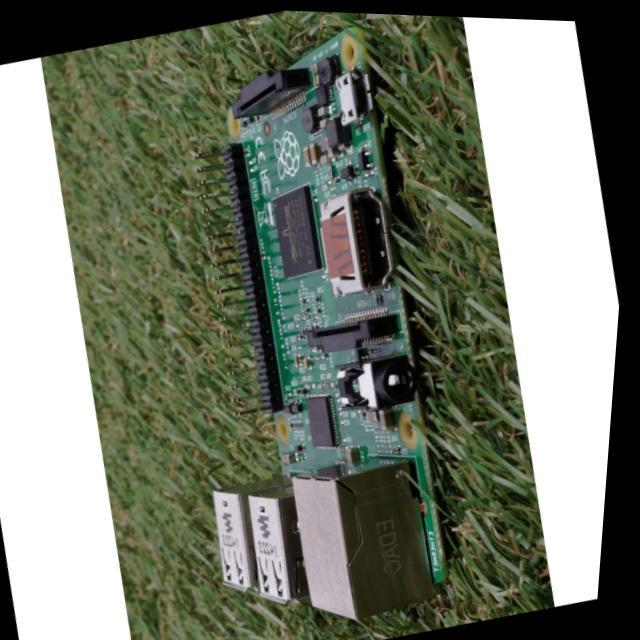Raspberry-Pi-2-B: (214, 34, 444, 620)
